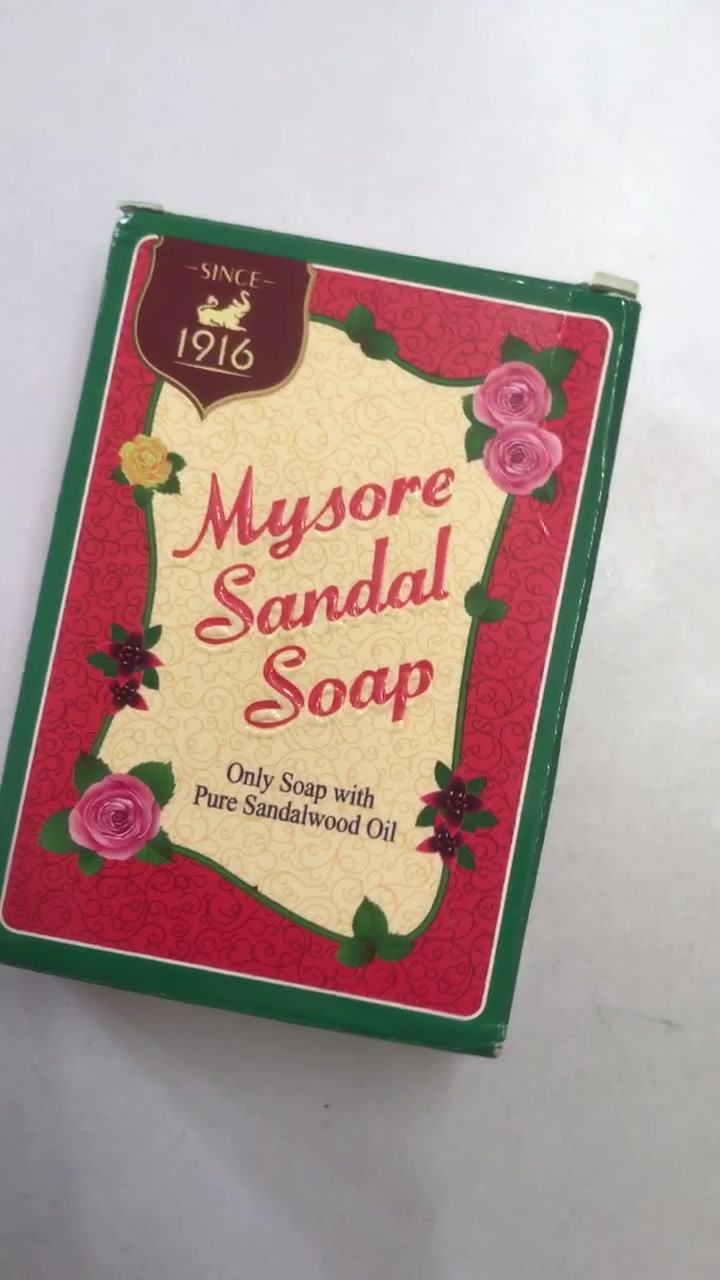mysore sandal soap: (8, 210, 637, 1059)
